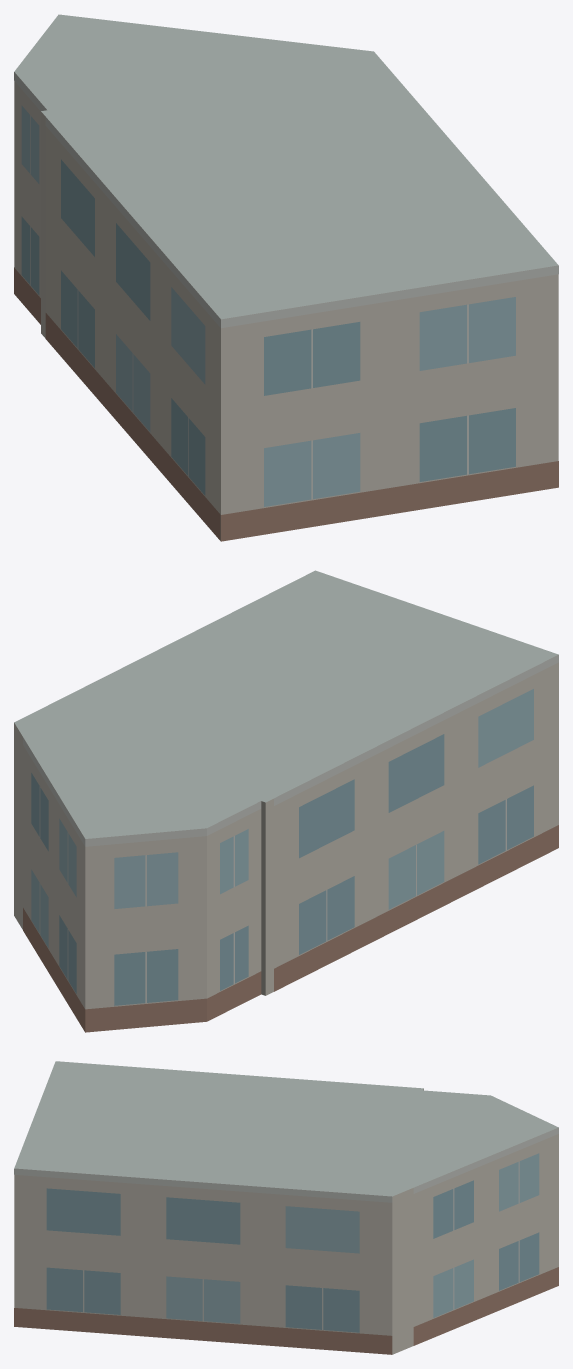
File: survey-upis-32695091.glb
3 renders of one model, top to bottom at view 1: azimuth 30°, elevation 25°; view 2: azimuth 150°, elevation 25°; view 3: azimuth 270°, elevation 25°, orthographic. The views are drawn at different scales.
Parts seen in each view (by area): view 1: survey-upis-32695091.tmp; view 2: survey-upis-32695091.tmp; view 3: survey-upis-32695091.tmp.
Part boxes in pixels (left/top/right/bottom): survey-upis-32695091.tmp: left=14, top=14, right=558, bottom=541; survey-upis-32695091.tmp: left=14, top=570, right=558, bottom=1032; survey-upis-32695091.tmp: left=14, top=1061, right=558, bottom=1354.
Bounding box in the file's own units: 11.2 × 6.1 × 19.03.
